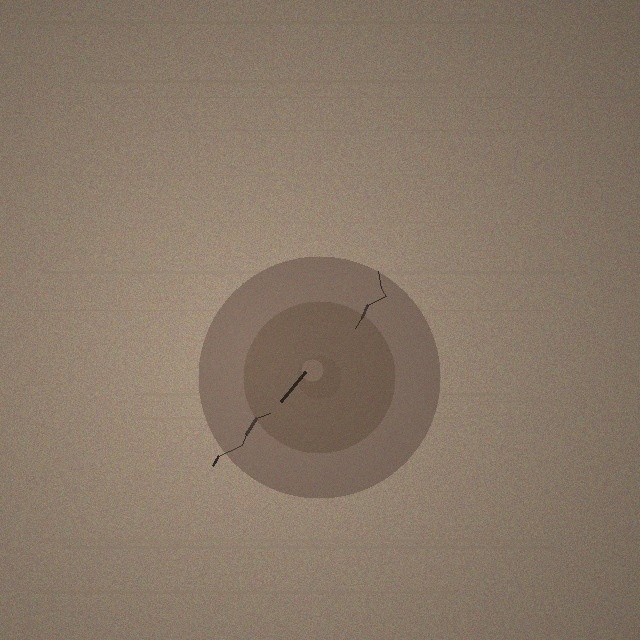crack: (198, 256, 440, 498)
